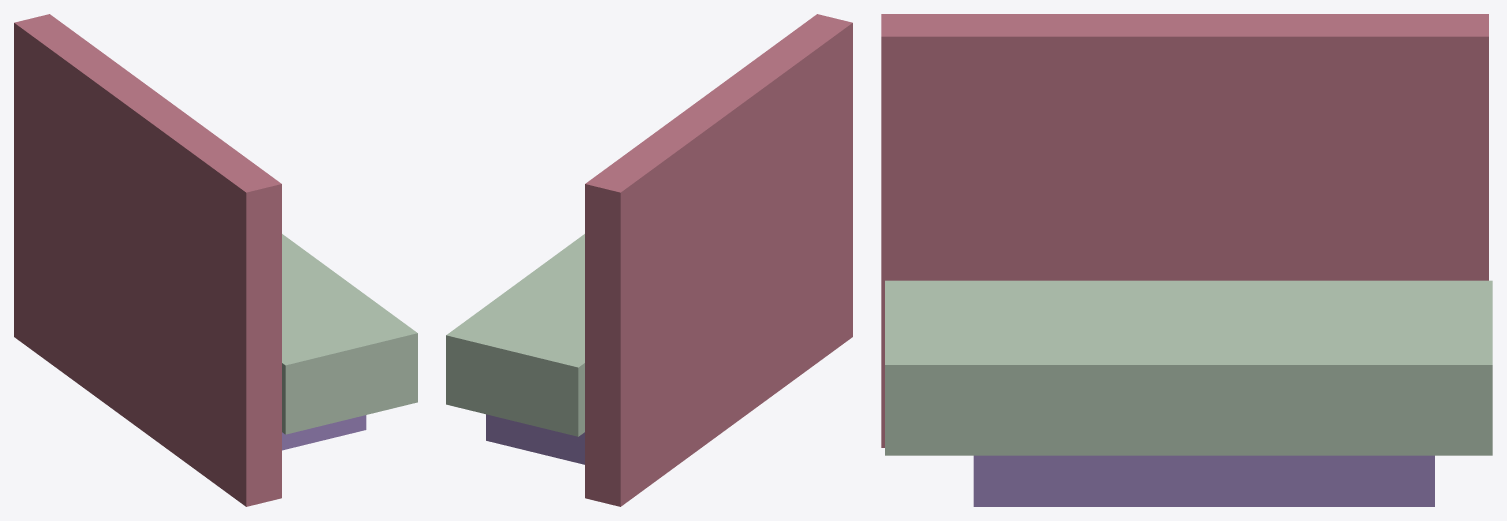
The picture shows the model from 3 angles, left to right: view 1: azimuth 30°, elevation 25°; view 2: azimuth 150°, elevation 25°; view 3: azimuth 270°, elevation 25°; orthographic projection. The views are drawn at different scales.
Visible parts, largest first — view 1: world; view 2: world; view 3: world.
Boxes of the visible parts, bbox=[...] form: world: bbox=[14, 14, 417, 506]; world: bbox=[446, 14, 852, 506]; world: bbox=[881, 14, 1492, 506].
Bounding box in the file's own units: 3.4 × 5.9 × 7.95.
